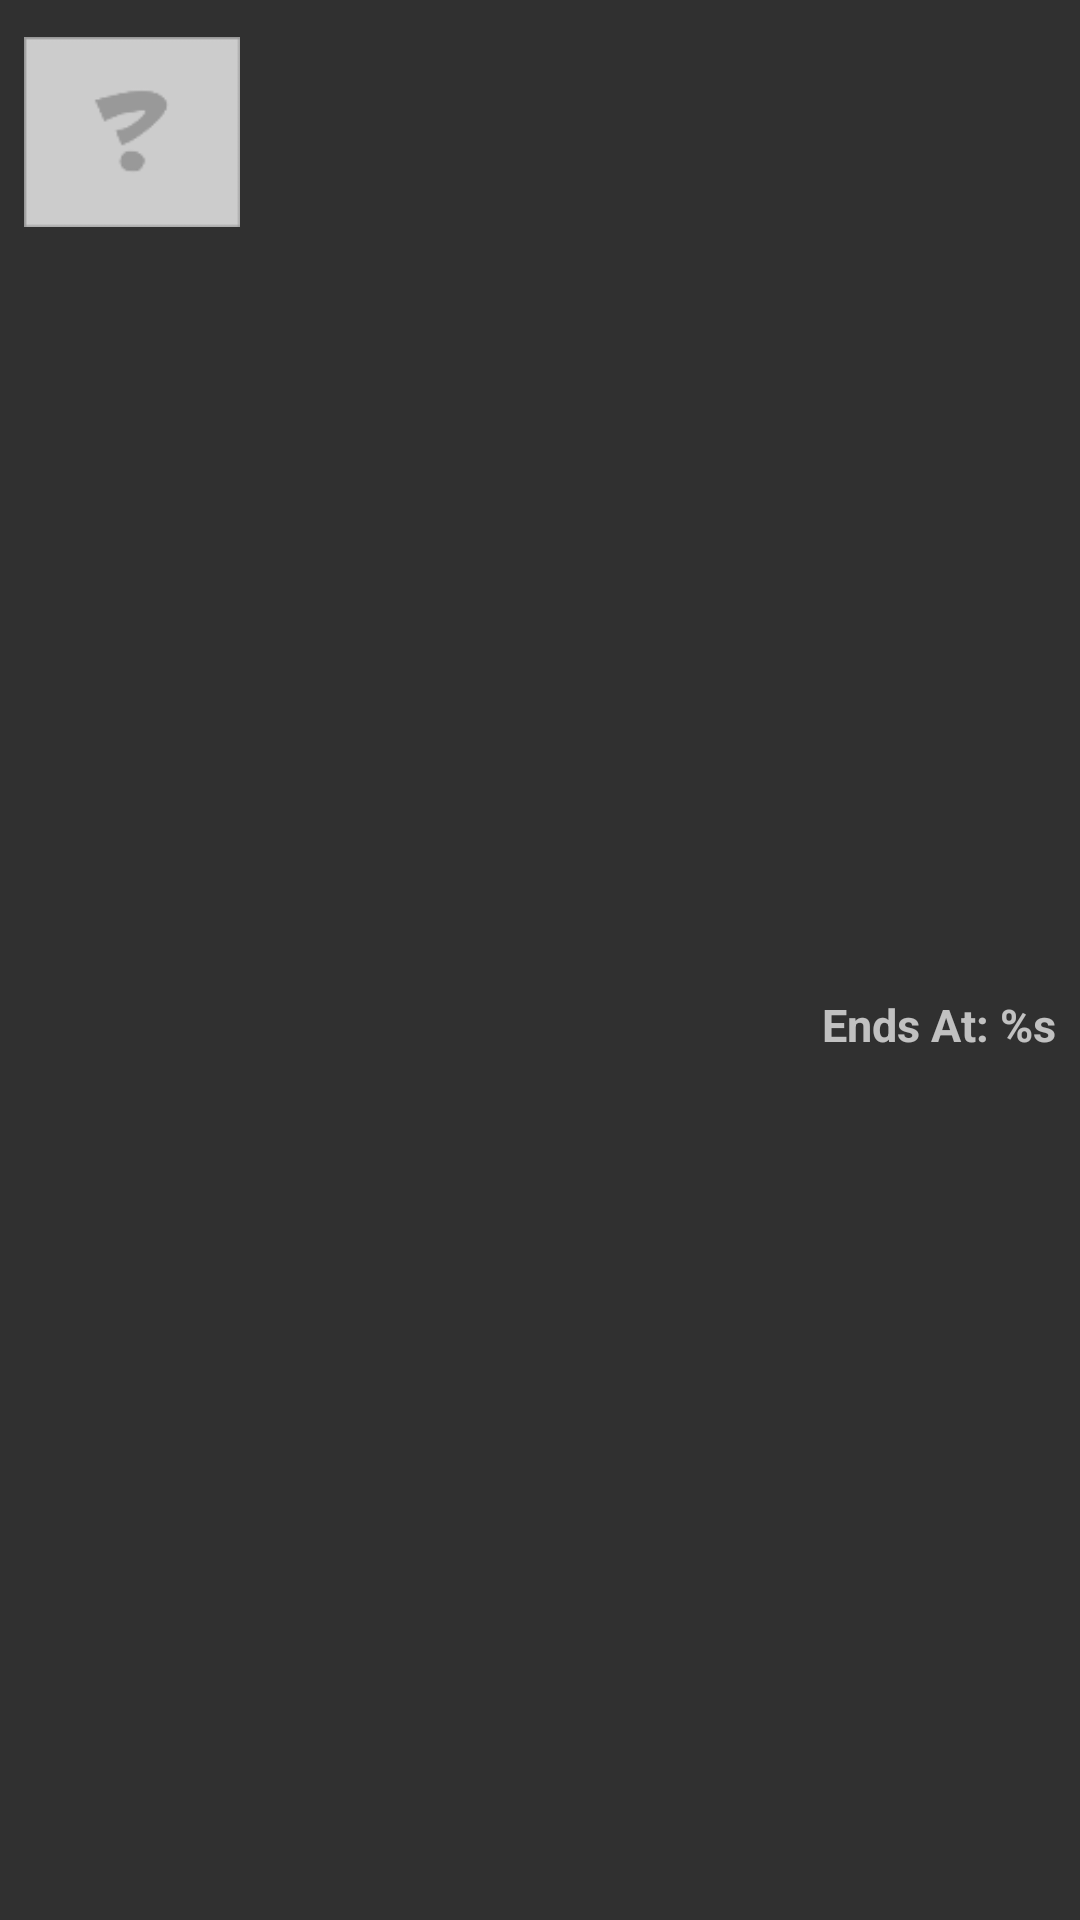

Named icons in this screenshot (1080x1920) and their bounding boxes, (x1, y1, x2, y2):
no photo: (24, 37, 240, 227)
